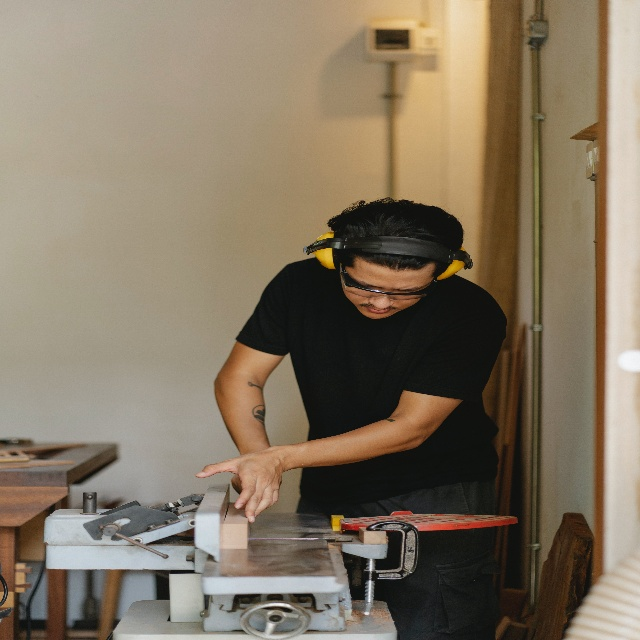Gafas: (339, 261, 437, 301)
Sin_guantes: (194, 447, 286, 524)
